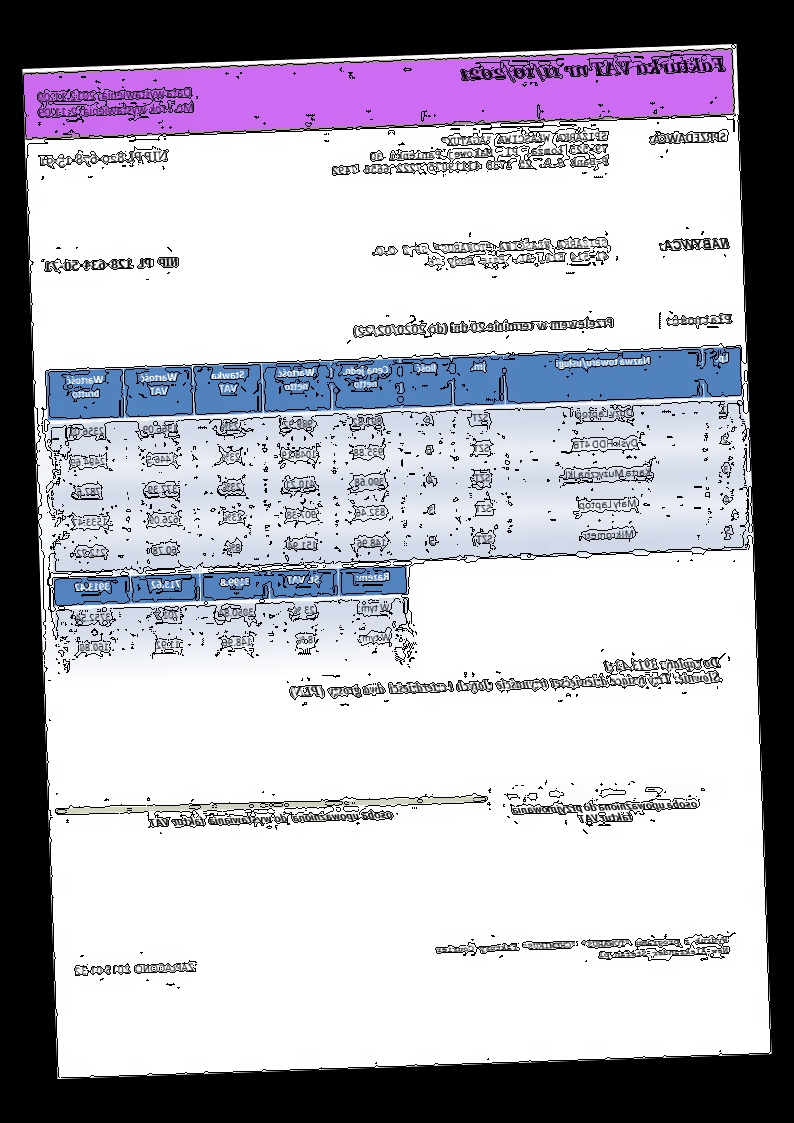Table: (45, 344, 751, 574), (53, 564, 411, 669)
TextBox: (287, 653, 724, 702), (330, 128, 613, 178), (434, 933, 732, 968), (369, 235, 612, 271), (459, 53, 729, 84), (145, 806, 395, 832), (352, 316, 616, 340), (511, 795, 701, 827), (35, 84, 198, 120), (43, 253, 181, 274), (39, 148, 172, 169), (73, 959, 198, 980), (649, 128, 729, 146), (659, 234, 732, 253), (664, 310, 734, 328)
